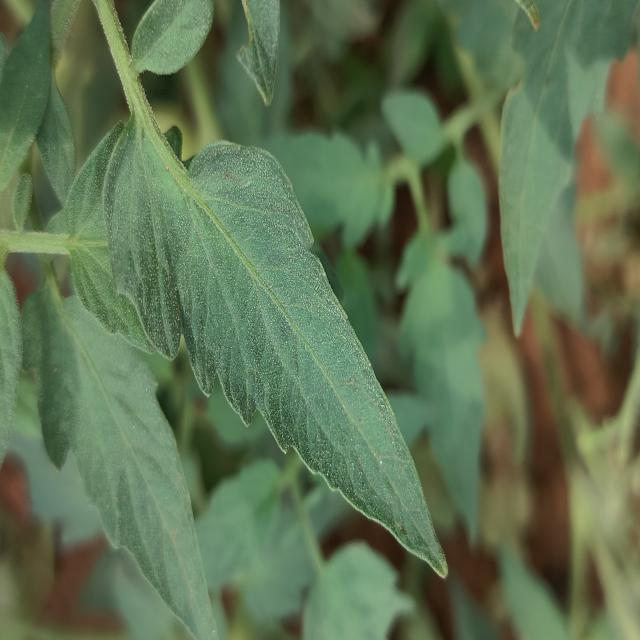tomato_healthy: (104, 119, 446, 576)
